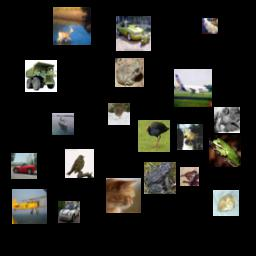airplane: (174, 69, 212, 107), (12, 189, 47, 224)
automobile: (116, 16, 151, 51), (11, 153, 37, 179), (58, 201, 80, 223)
bird: (138, 120, 170, 152), (65, 149, 94, 178), (108, 103, 130, 125), (180, 167, 199, 186)
cat: (106, 178, 141, 213), (213, 190, 239, 216), (214, 107, 240, 133)
deer: (53, 7, 91, 45)
dog: (177, 124, 203, 150), (202, 18, 218, 34)
frog: (144, 162, 176, 194), (209, 135, 241, 167), (115, 58, 144, 87)
ship: (52, 113, 74, 135)
truck: (25, 60, 57, 92)
